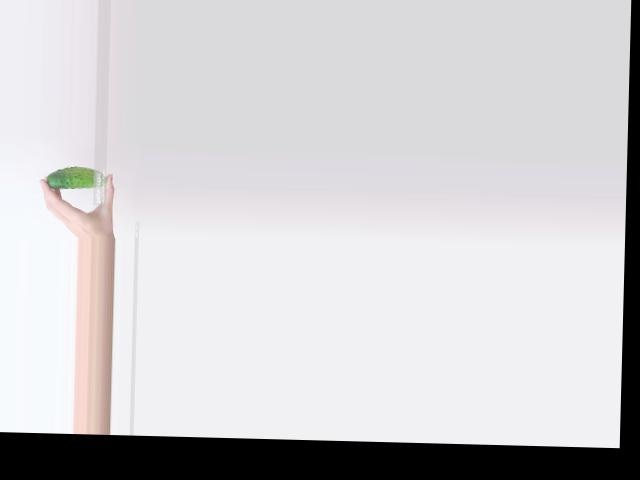cucumber: (46, 165, 107, 189)
